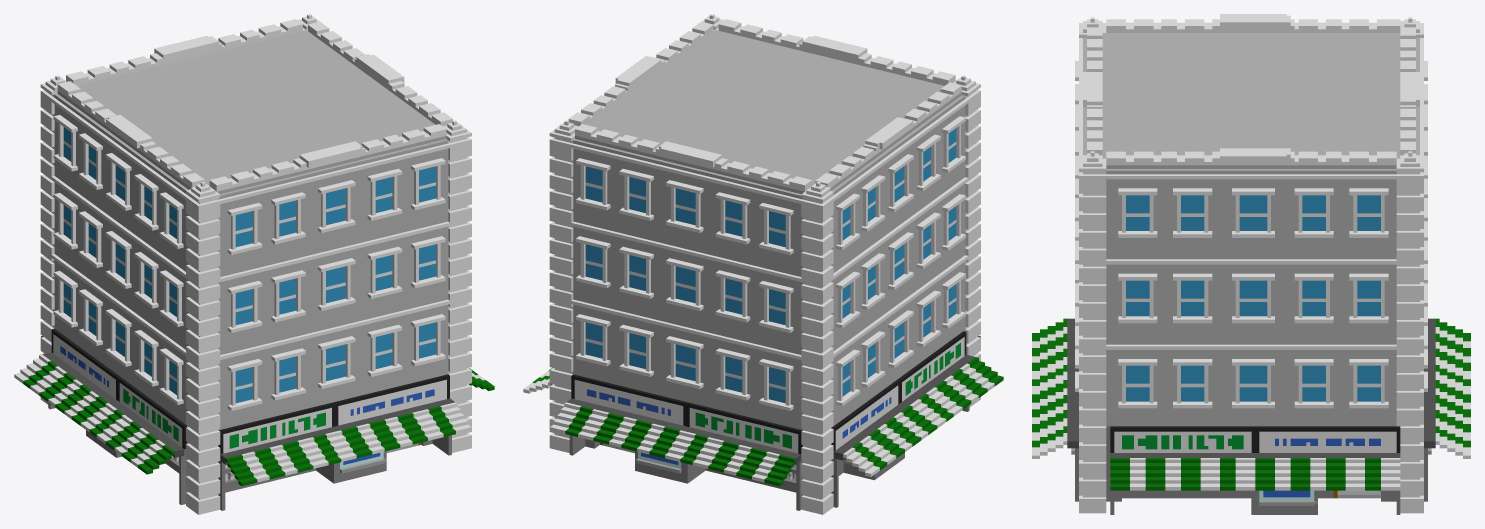
The model's file is obj_store07_White_Green.obj.
The picture shows the model from 3 angles, left to right: view 1: azimuth 30°, elevation 25°; view 2: azimuth 150°, elevation 25°; view 3: azimuth 270°, elevation 25°; orthographic projection. The views are drawn at different scales.
Bounding box in the file's own units: 11.2 × 10 × 11.2.
Materials: 1 (1 with a texture image).
